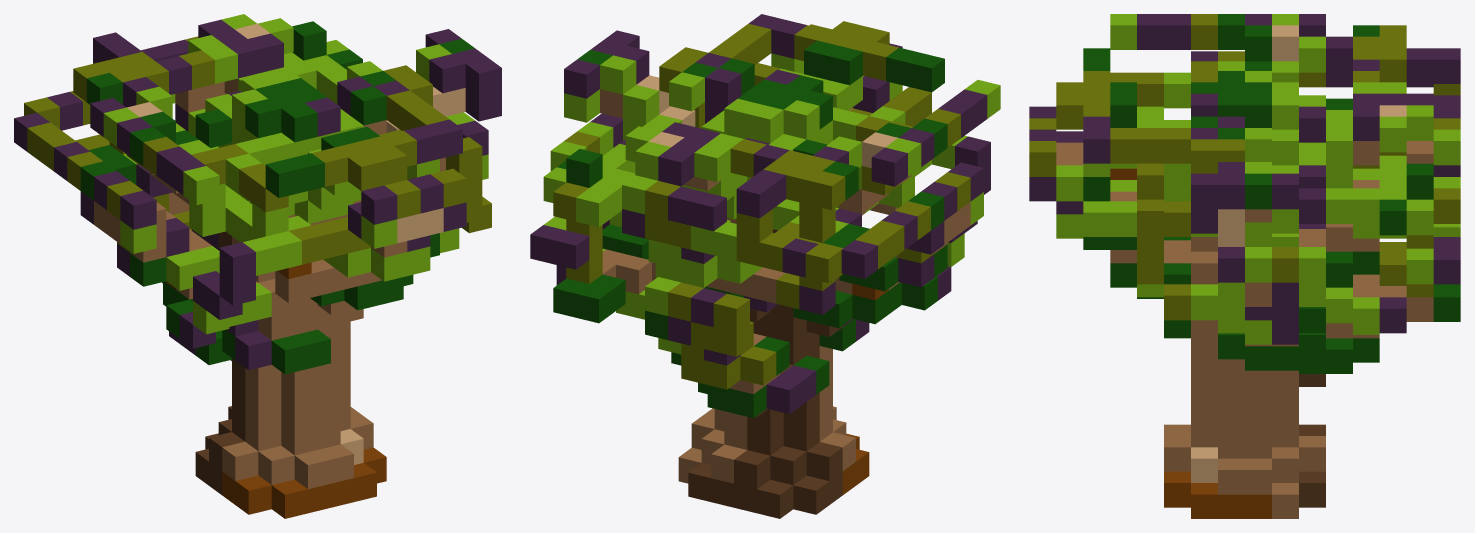
File: Sietecueros_Karoll_Alexandra_Duran_Vásquez_fase_3.obj
The picture shows the model from 3 angles, left to right: view 1: azimuth 30°, elevation 25°; view 2: azimuth 150°, elevation 25°; view 3: azimuth 270°, elevation 25°; orthographic projection.
Parts seen in each view (by area): view 1: Sietecueros_Karoll_Alexandra_Duran_Vásquez_fase_3; view 2: Sietecueros_Karoll_Alexandra_Duran_Vásquez_fase_3; view 3: Sietecueros_Karoll_Alexandra_Duran_Vásquez_fase_3.
Boxes of the visible parts, bbox=[...] form: Sietecueros_Karoll_Alexandra_Duran_Vásquez_fase_3: bbox=[14, 14, 501, 518]; Sietecueros_Karoll_Alexandra_Duran_Vásquez_fase_3: bbox=[530, 14, 1000, 518]; Sietecueros_Karoll_Alexandra_Duran_Vásquez_fase_3: bbox=[1029, 14, 1460, 518].
Bounding box in the file's own units: 16 × 16 × 16.
